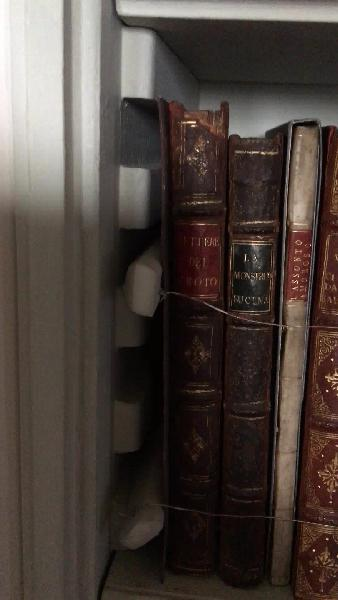Aa6-1: (157, 98, 223, 581)
Aa6-2: (223, 125, 275, 592)
Aa6-3: (273, 105, 314, 593)
